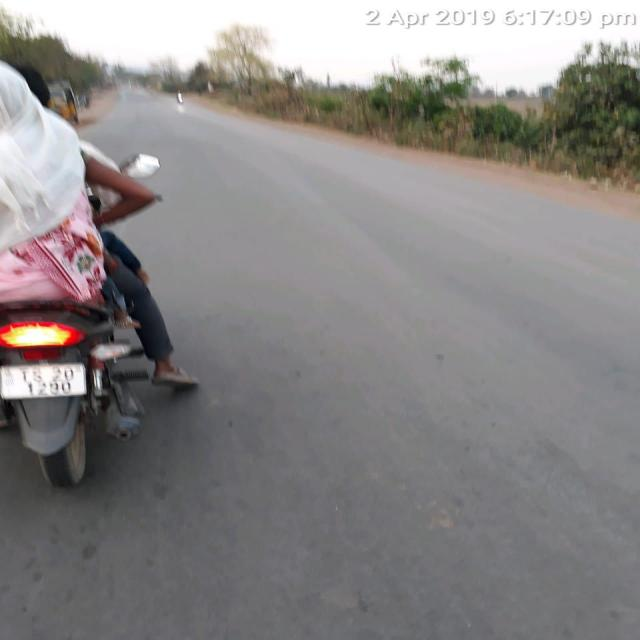plate: (2, 362, 95, 398)
